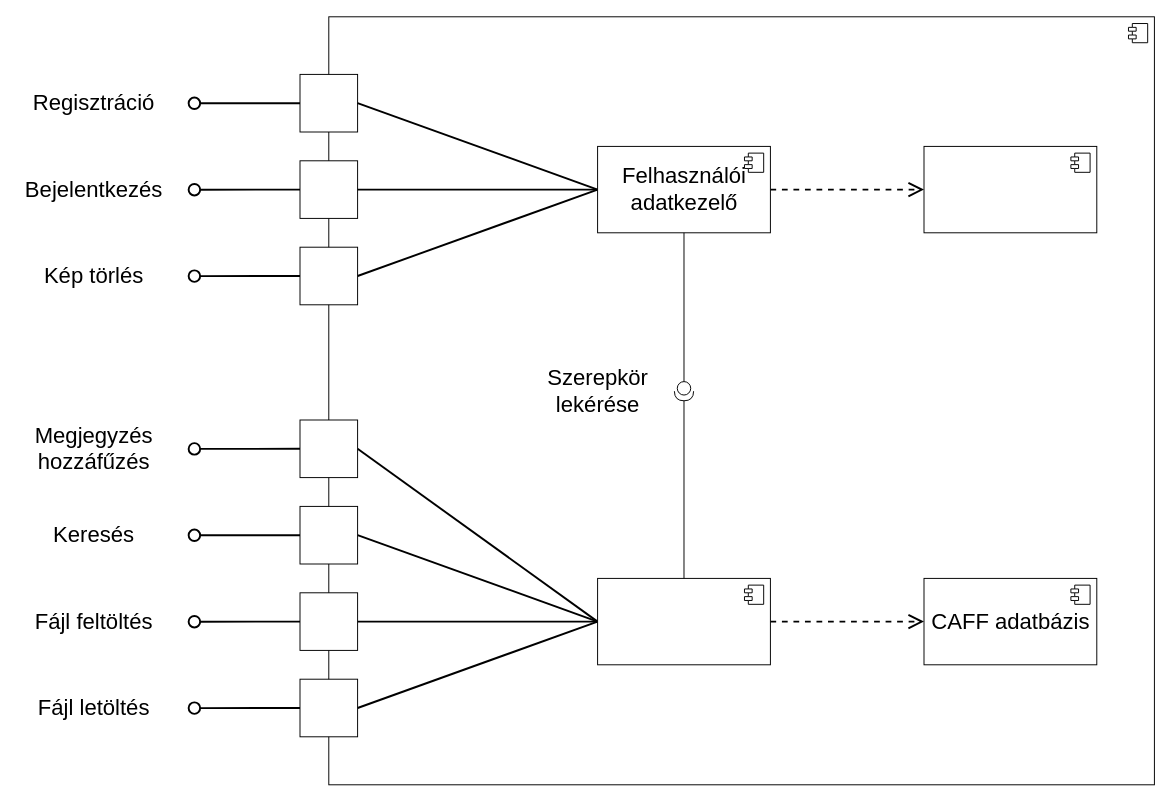
The diagram is 1171 pixels wide and 802 high, and some of its shapes have lost their labels. Each missing label, with the centre of its shape:
"CAFF kezelő" belongs at point 683,621.
"Felhasználói adatbázis" belongs at point 1010,189.
